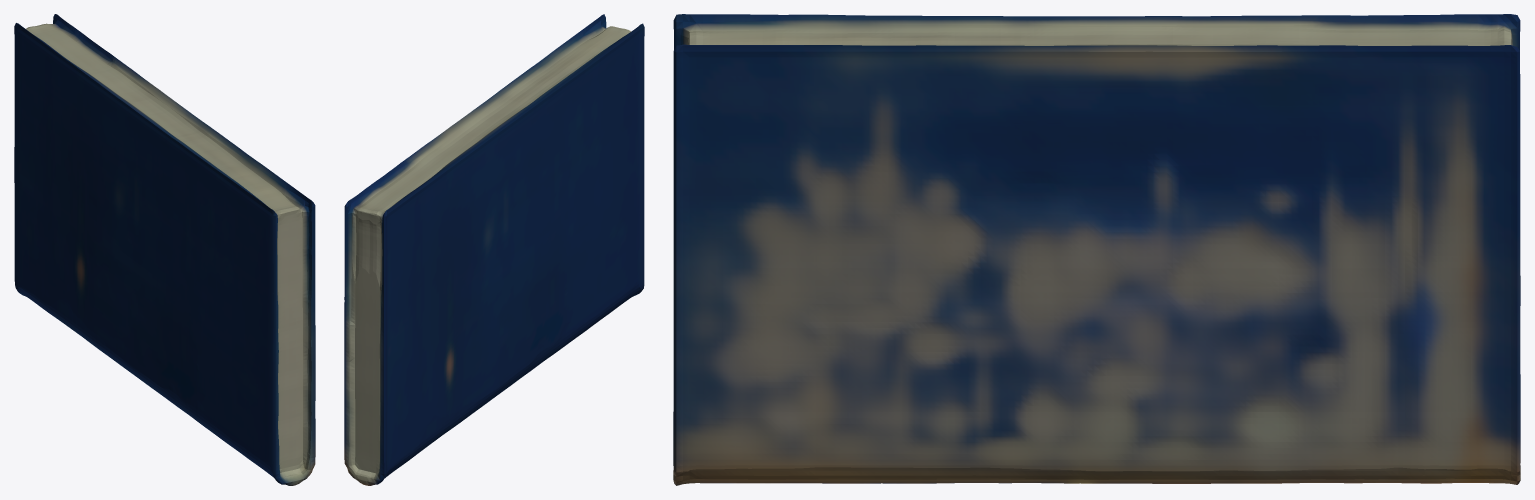
The picture shows the model from 3 angles, left to right: view 1: azimuth 30°, elevation 25°; view 2: azimuth 150°, elevation 25°; view 3: azimuth 270°, elevation 25°; orthographic projection. The views are drawn at different scales.
Visible parts, largest first — view 1: cube_0.obj; view 2: cube_0.obj; view 3: cube_0.obj.
Part boxes in pixels (x1,y1,x2,y2): cube_0.obj: (14, 14, 315, 485); cube_0.obj: (344, 14, 644, 485); cube_0.obj: (673, 14, 1520, 485).
Size of the model in its own units: 0.1877 by 1.17 by 1.98.
